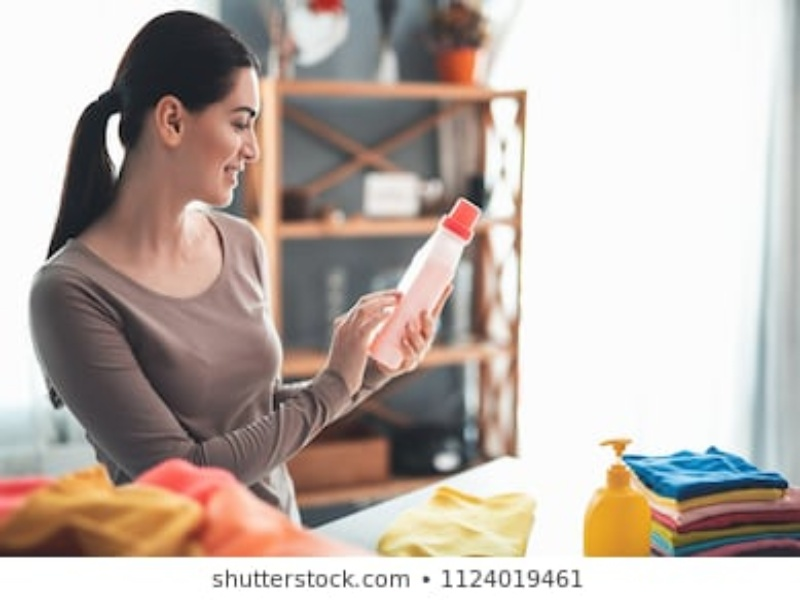detergent-bottle: (368, 194, 485, 372)
